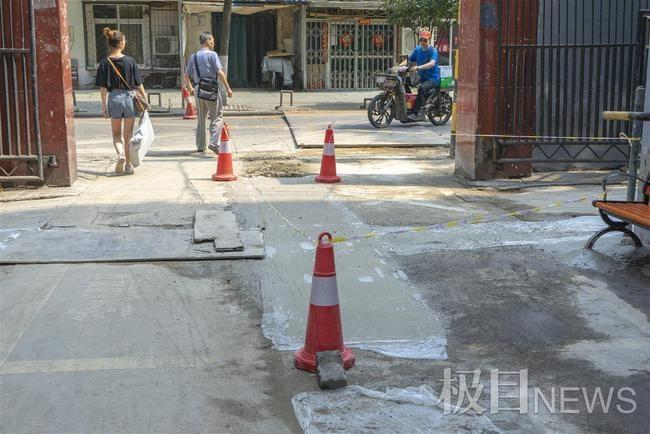cone_barrel: (291, 231, 354, 381), (209, 116, 240, 181), (312, 120, 341, 182), (180, 85, 196, 119)
